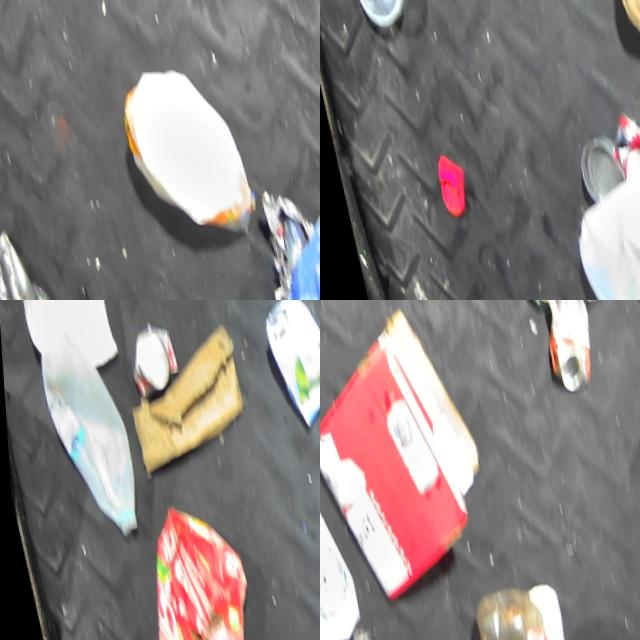can: (254, 300, 320, 429), (525, 300, 600, 389), (118, 314, 181, 400), (565, 126, 621, 202), (0, 218, 42, 300), (595, 100, 640, 173)
milk_jug: (102, 48, 258, 247), (27, 323, 145, 544), (547, 133, 640, 300)
